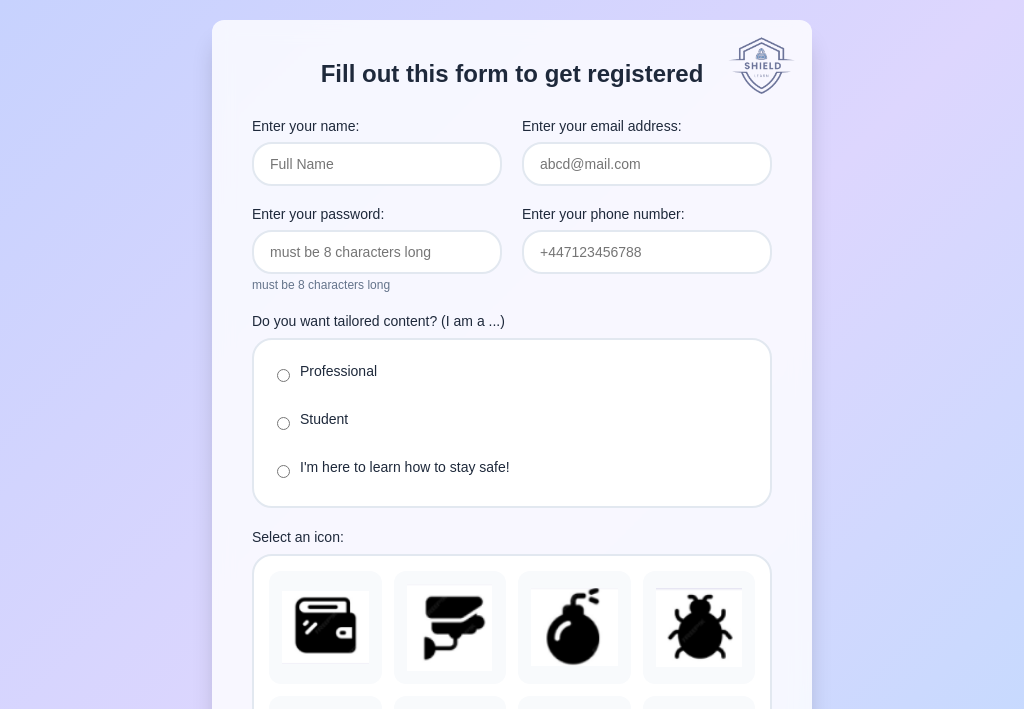
Data Security — Protected Routes & Password Handling › shows an error and does not submit when the password is under 8 characters
In the field labelled "Enter your name:": (377,164) [252,142,502,186], type "Test"
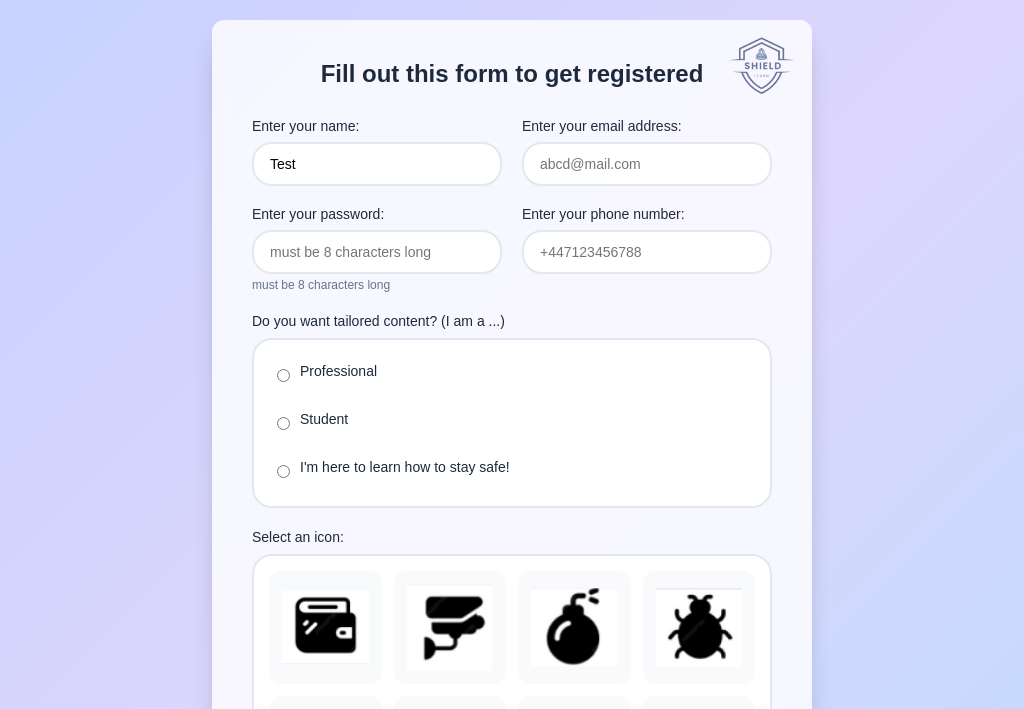
In the field labelled "Enter your email address:": (647,164) [522,142,772,186], type "test@test.com"
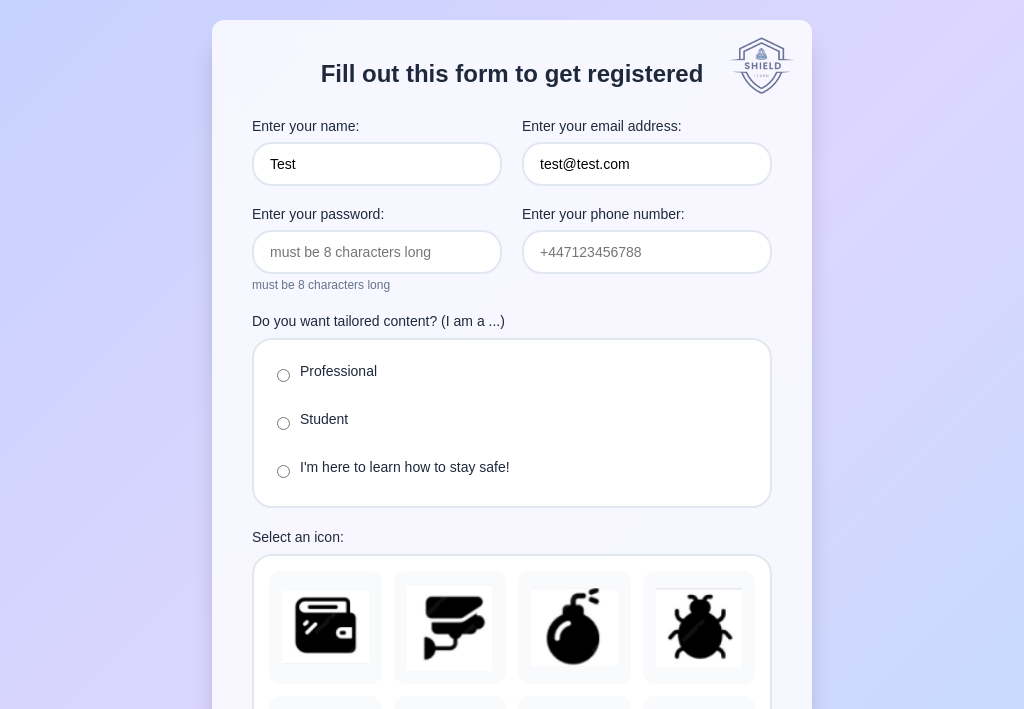
In the password field labelled "Enter your password:": (377,252) [252,230,502,274], type "short"
(page scrolled)
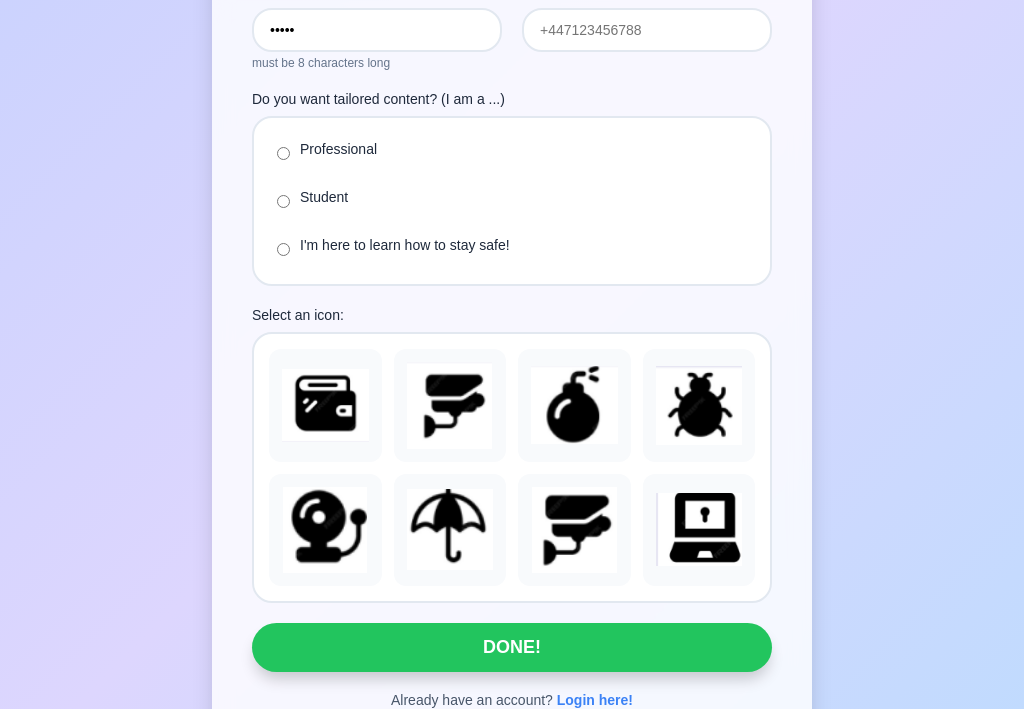
Click the button "DONE!": (512,648) [252,623,772,672]
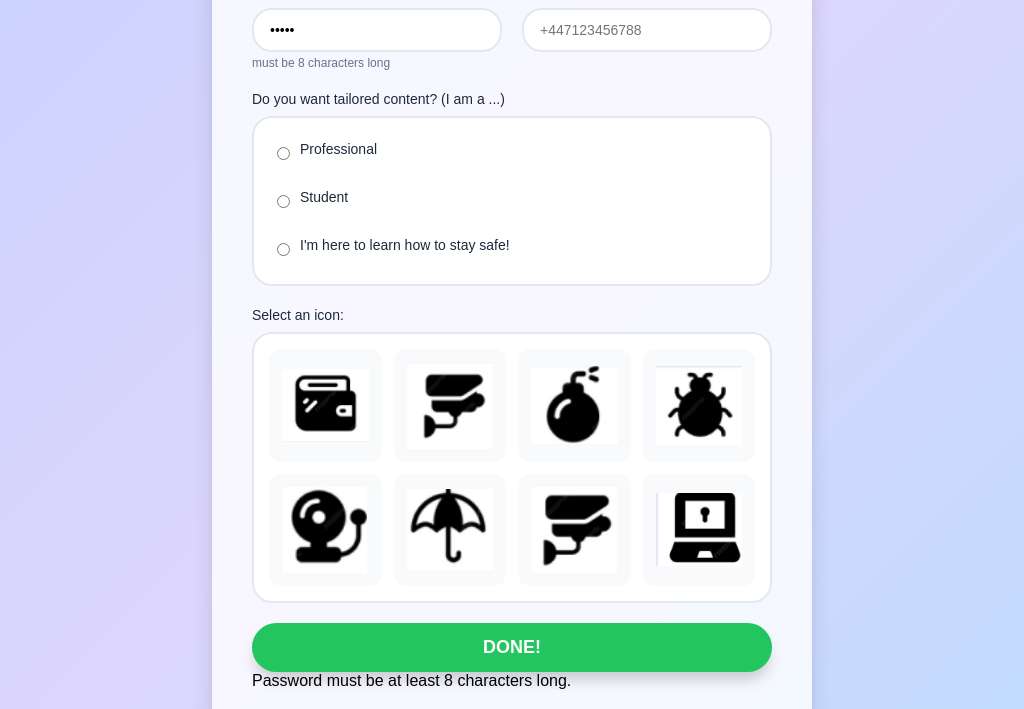
Now the text "Password must be at least 8 characters long." is shown, box [252,672,571,689]
